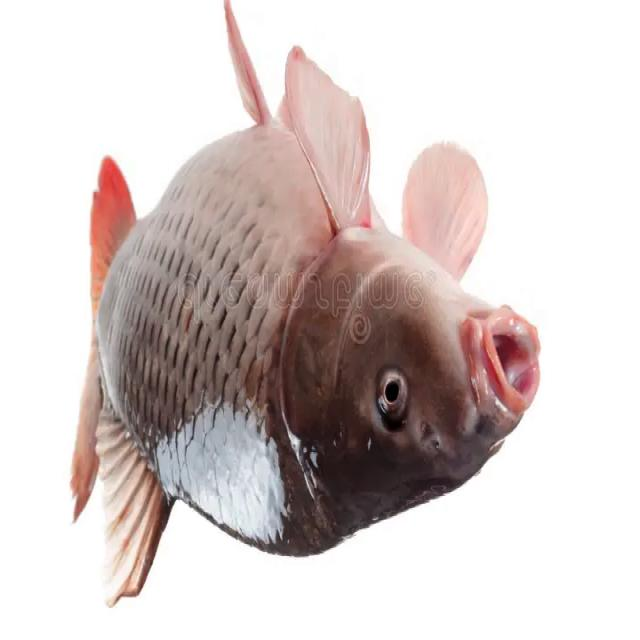Common carp: (71, 0, 541, 612)
